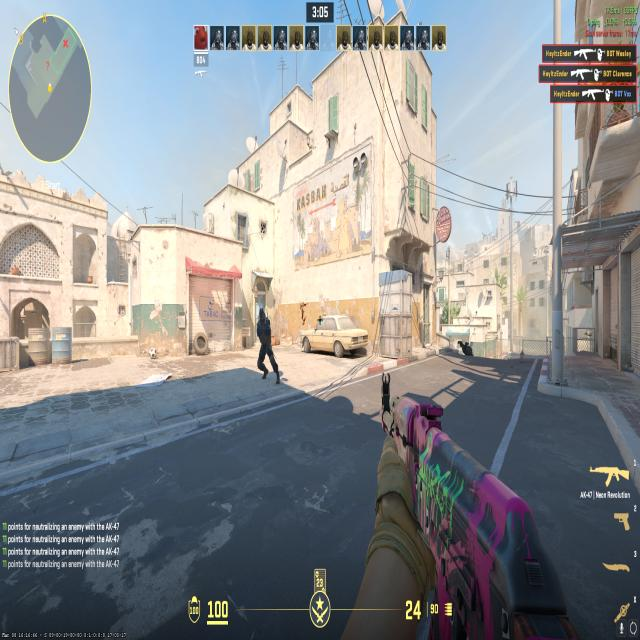ct: (250, 306, 284, 389)
